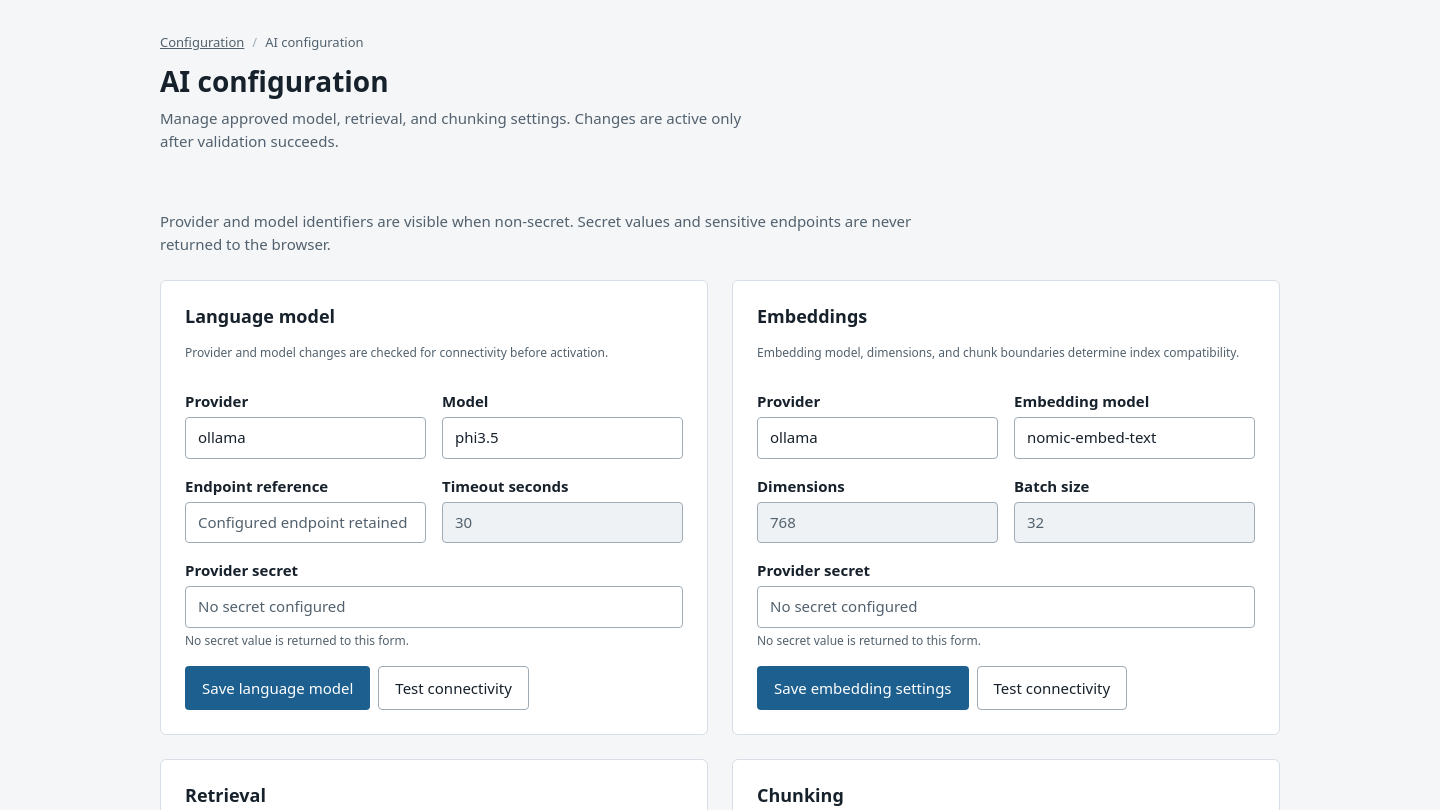
AI configuration › shows a safe connectivity error and does not claim activation
Click the button "Save language model".
click(278, 688)  # box [185,666,370,710]
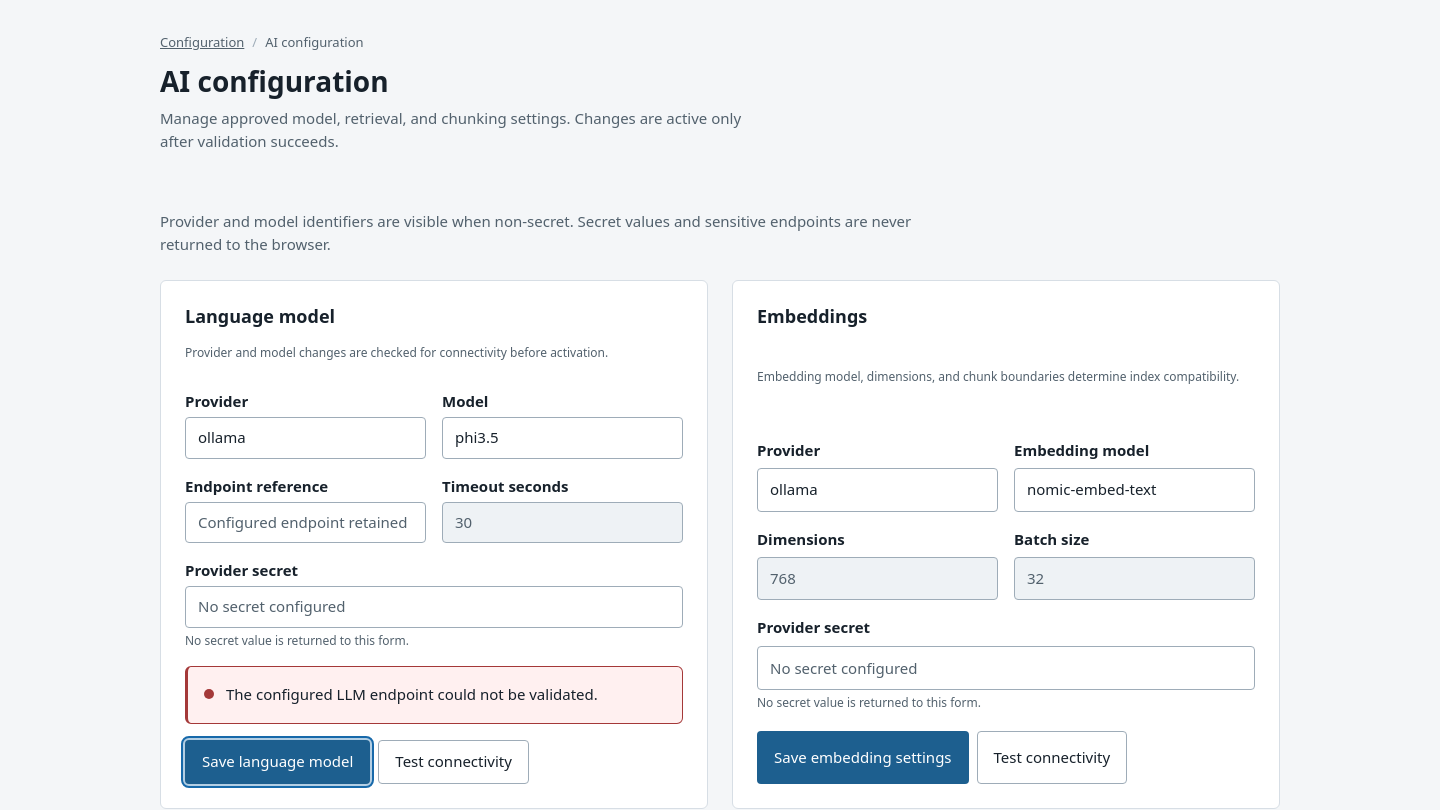
Expected: the message shows "could not be validated", [226,684,598,704]
